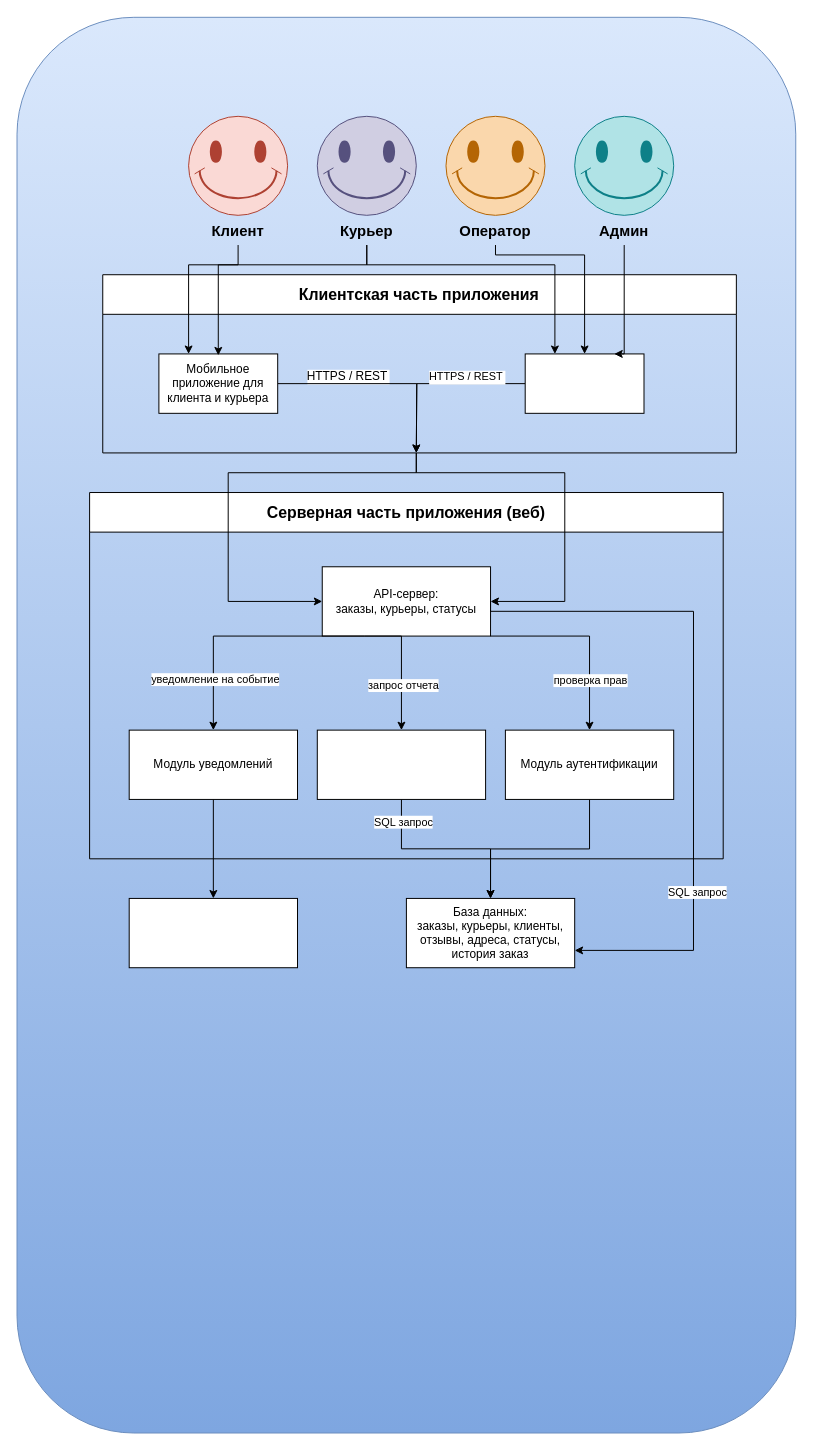
Image size: 814x1450. Some labels were removed from this diagram. Here are the shapes that lost their labels. From the top down, the centre of each, then its label:
[584,383]: Веб-интерфейс для оператора, курьера, администратора
[401,764]: Модуль отчетов и статистики
[212,932]: ВНЕНШИЕ СЕРВИСЫ: email, push сервис
